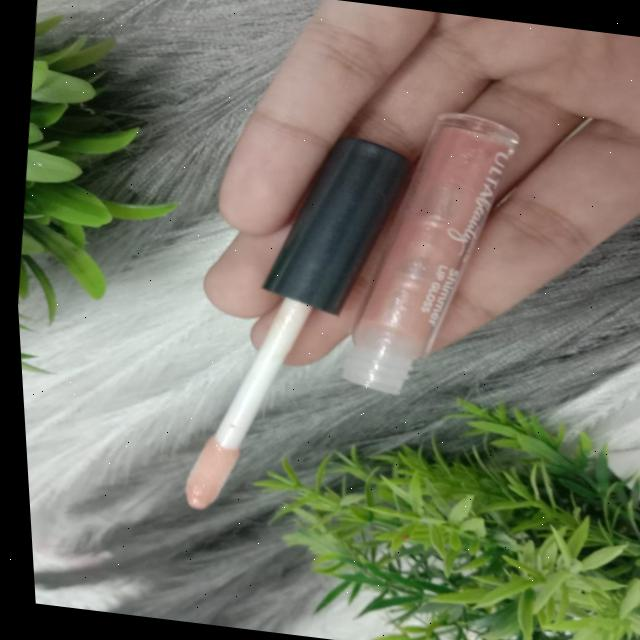lip gloss: (107, 21, 562, 586)
